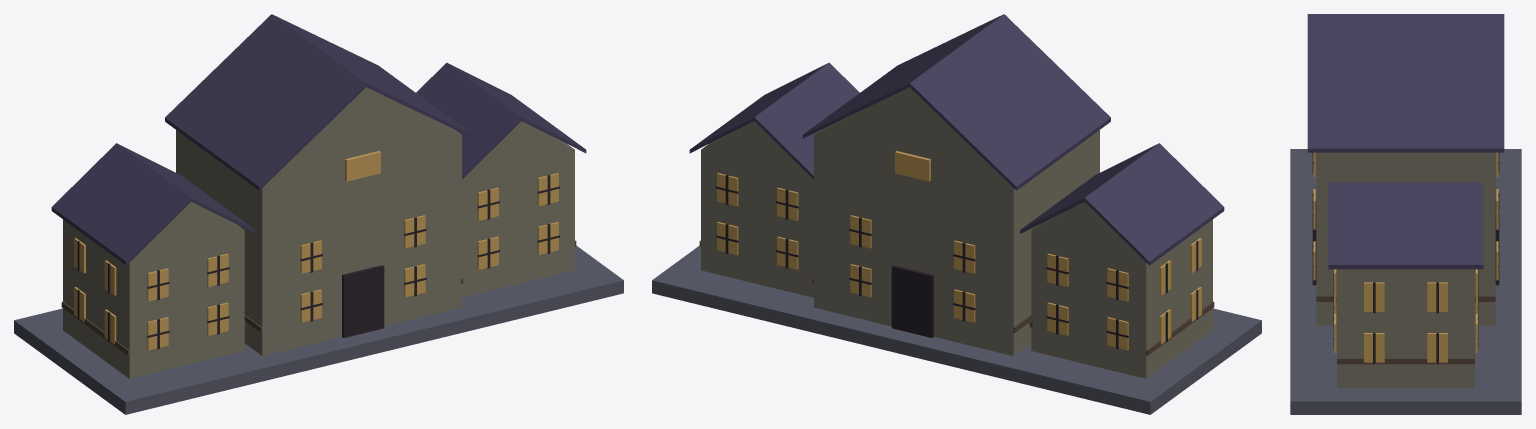
File: HauntedWoods_ManorBackdrop_Standard.glb
3 renders of one model, left to right at view 1: azimuth 30°, elevation 25°; view 2: azimuth 150°, elevation 25°; view 3: azimuth 270°, elevation 25°, orthographic. The views are drawn at different scales.
Visible parts, largest first — view 1: HauntedWoods_ManorBackdrop_Standard; view 2: HauntedWoods_ManorBackdrop_Standard; view 3: HauntedWoods_ManorBackdrop_Standard.
Boxes of the visible parts, left/top/right/bottom form: HauntedWoods_ManorBackdrop_Standard: left=14, top=14, right=623, bottom=414; HauntedWoods_ManorBackdrop_Standard: left=652, top=14, right=1261, bottom=414; HauntedWoods_ManorBackdrop_Standard: left=1290, top=14, right=1521, bottom=414.
Size of the model in its own units: 16 by 8.12 by 6.2.
